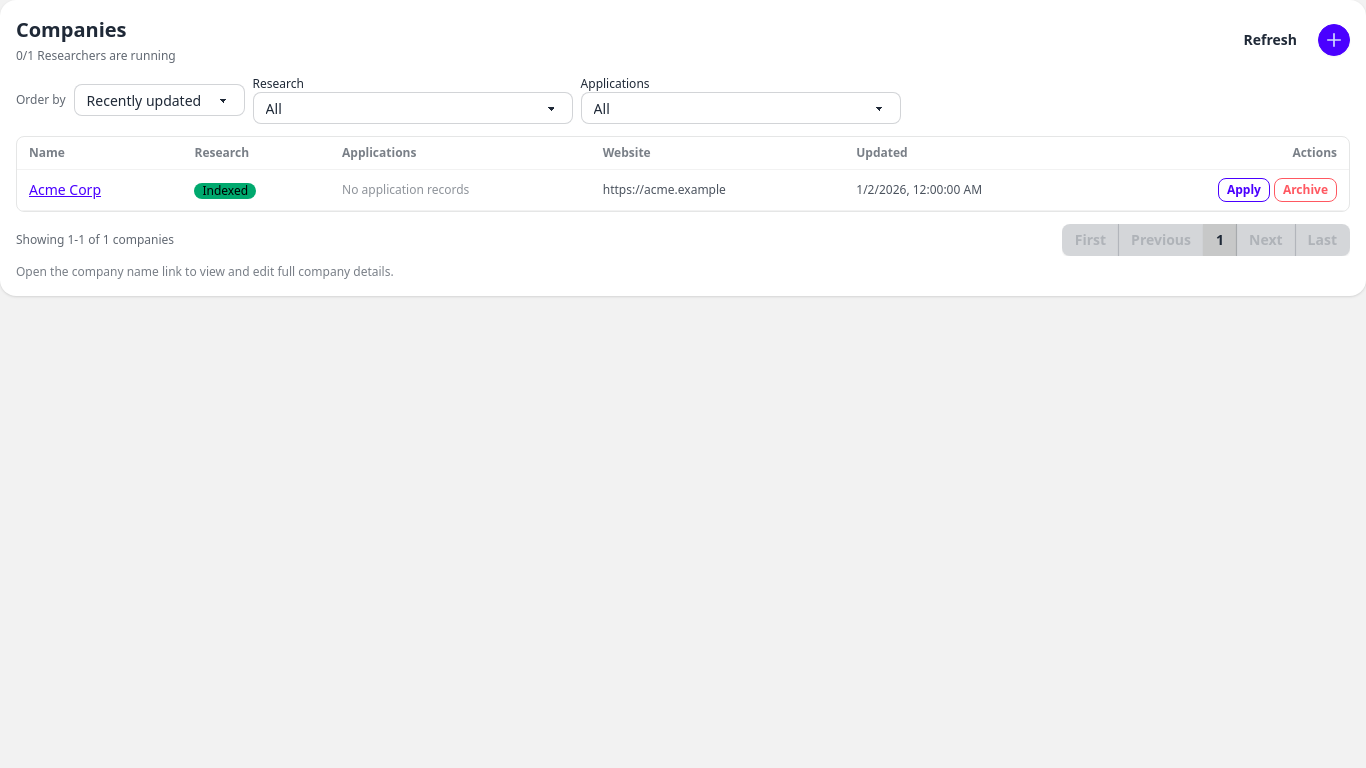
it: CompaniesPage › opens an explicit restore modal when create hits archived-company conflict
Expected: the cell "Acme Corp" is shown, [17,170,182,210]
Click the button named "New company": (1334, 40) [1318,24,1350,56]
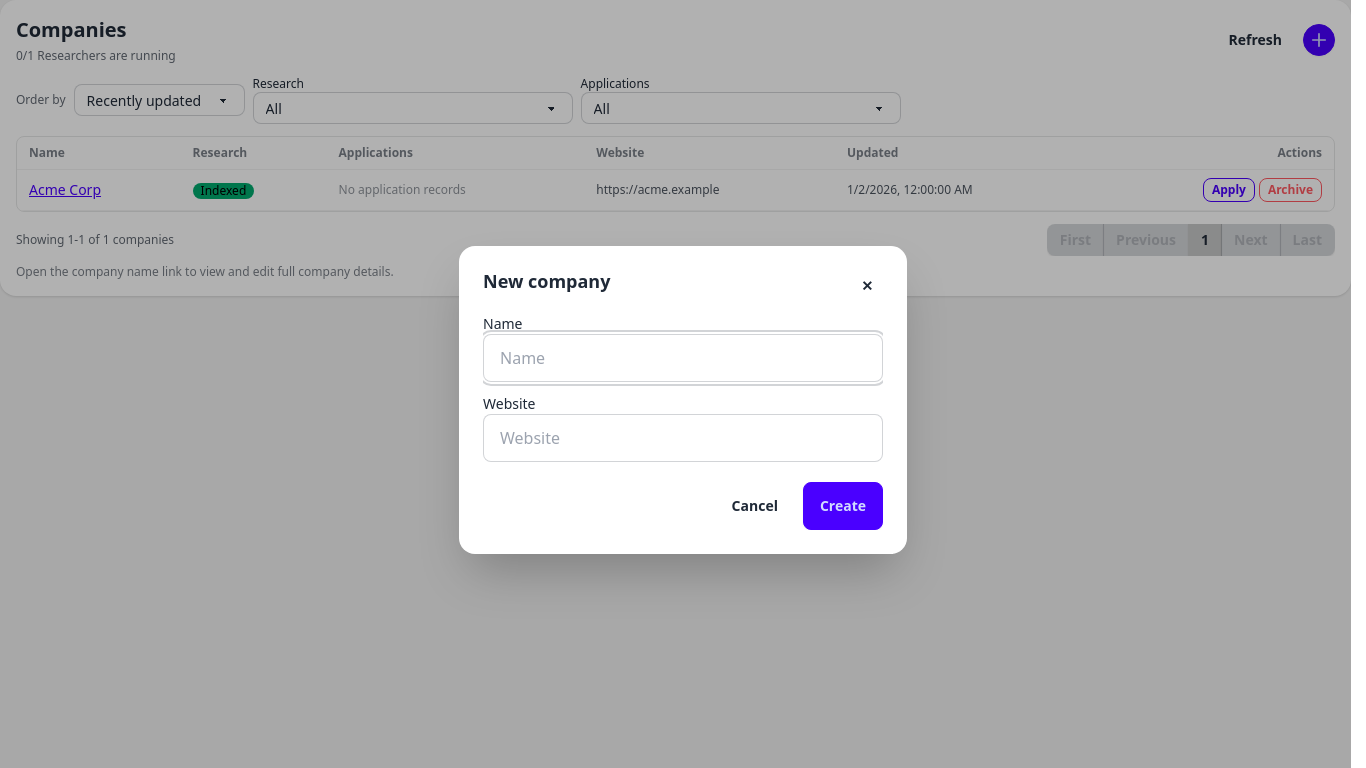
In the field labelled "Name": (683, 358) [483,334,883,382], type "Old Co"
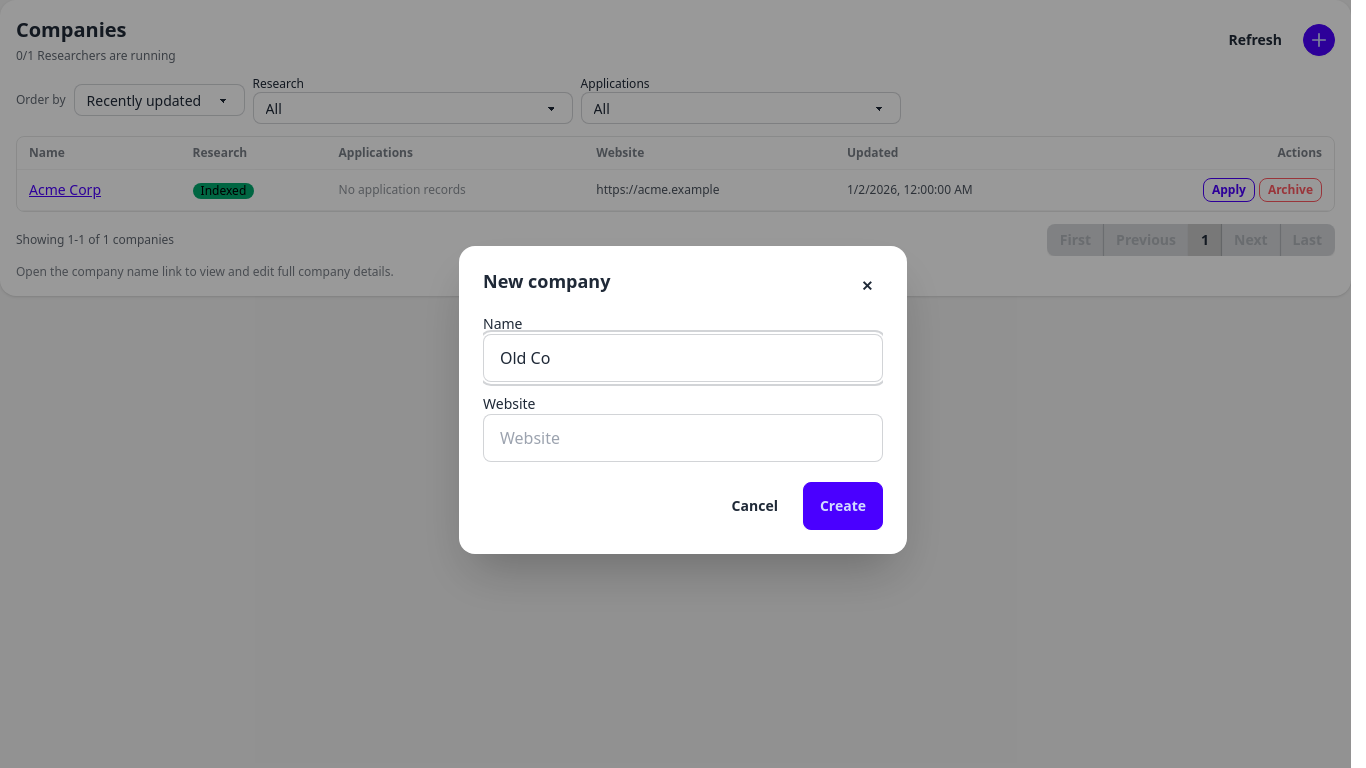
Click the button "Create": (843, 506) [803,482,883,530]
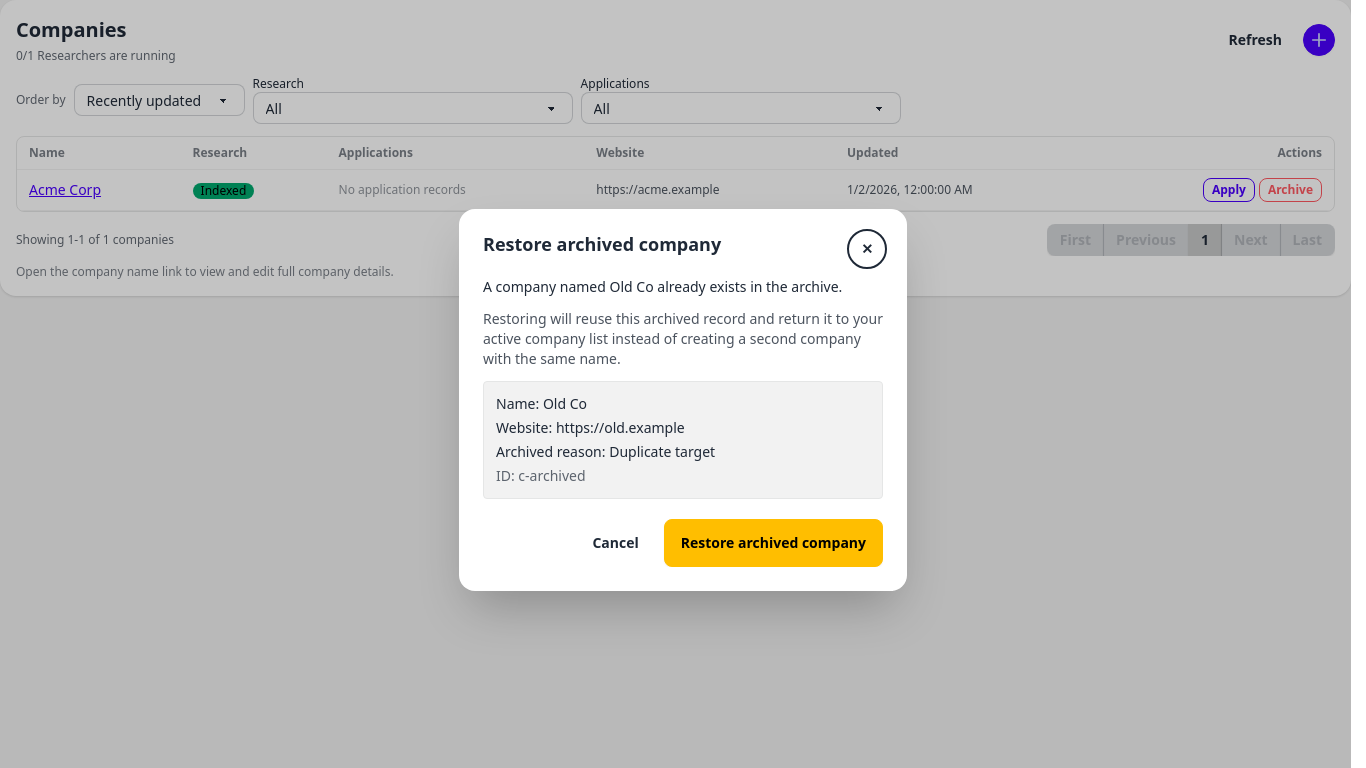
Expected: the text "A company named Old Co already exists in the archive." is shown, [483,277,883,297]
Expected: the text "https://old.example" is shown, [556,418,685,437]
Expected: the text "Duplicate target" is shown, [609,442,715,461]
